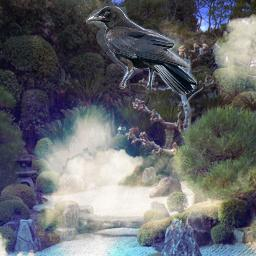Crow: (86, 6, 197, 95)
